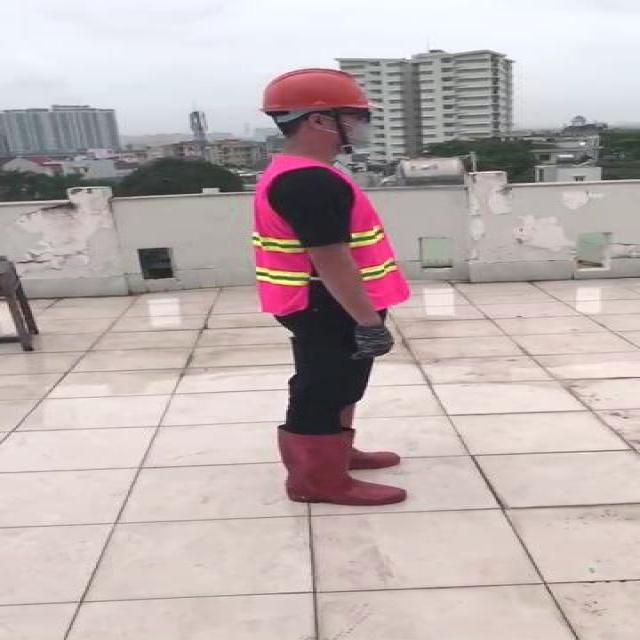boots: (276, 424, 407, 508), (304, 397, 407, 469)
face_mask: (327, 110, 384, 148)
hand_glove: (343, 324, 395, 360)
head_helmet: (257, 66, 371, 115)
person: (231, 60, 429, 512)
vest: (245, 147, 411, 315)
